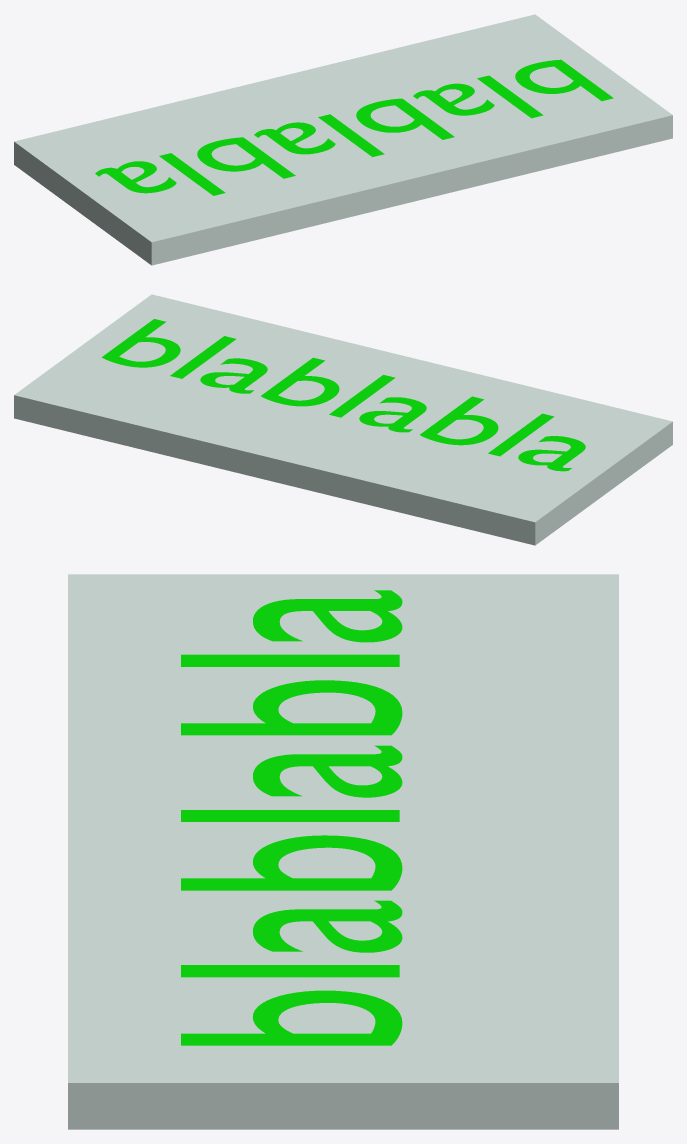
The model's file is hologram.glb.
3 views of the same model, one above another, from view 1: azimuth 30°, elevation 25°; view 2: azimuth 150°, elevation 25°; view 3: azimuth 270°, elevation 25° (orthographic). The views are drawn at different scales.
Parts seen in each view (by area): view 1: Plane, Text; view 2: Plane, Text; view 3: Plane, Text.
Part boxes in pixels (x1,y1,x2,y2): Plane: (14,14,672,265); Text: (95,59,613,195); Plane: (14,294,672,545); Text: (102,319,585,471); Plane: (68,574,618,1129); Text: (181,590,402,1045).
Size of the model in its own units: 17.19 by 0.8502 by 7.87.
